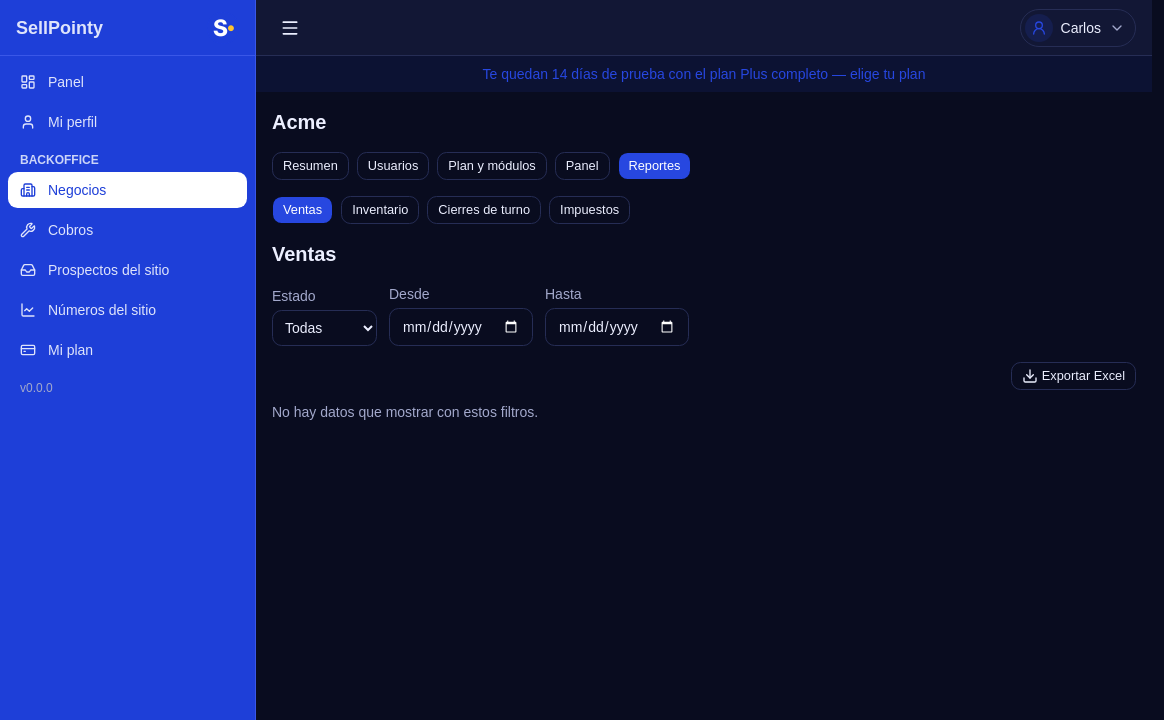
Test: los cierres de turno del negocio mirado (F5-SHIFT-05) › la pestaña «Cierres de turno» pide los turnos con el prefijo del expediente
Check: the element with test id "tenant-reports" is shown, box x1=272 y1=196 x2=1136 y2=422
Click the tab "Cierres de turno" at (484, 210), box x1=427 y1=196 x2=541 y2=224
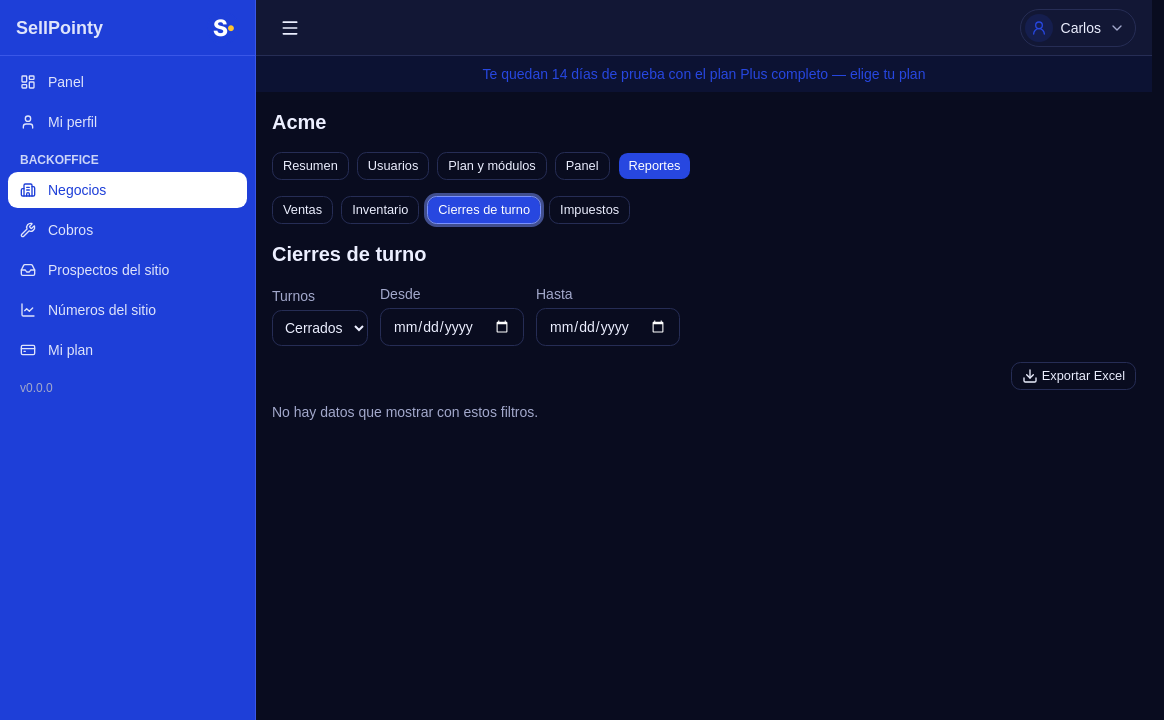
Check: the element with test id "shifts-report" is shown, box x1=272 y1=240 x2=1136 y2=422
